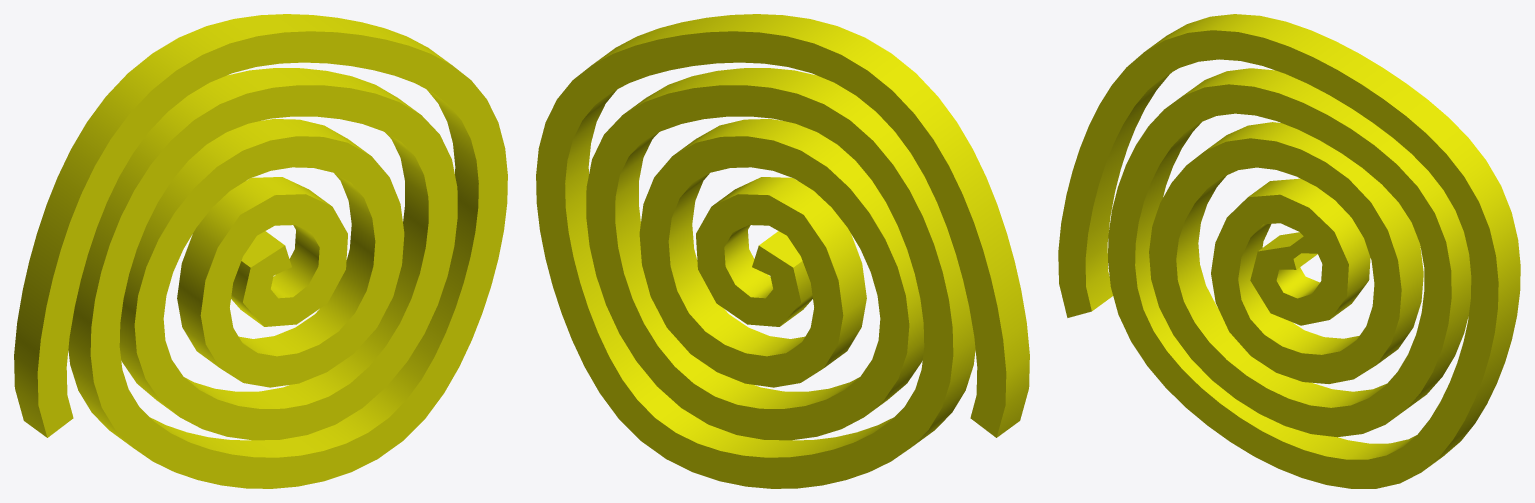
The model's file is SunBody.fbx.
3 views of the same model, side by side, from view 1: azimuth 30°, elevation 25°; view 2: azimuth 150°, elevation 25°; view 3: azimuth 330°, elevation 25° (orthographic). The views are drawn at different scales.
Parts seen in each view (by area): view 1: SunBody; view 2: SunBody; view 3: SunBody.
Boxes of the visible parts, <box> form: SunBody: <box>14,14,507,488</box>; SunBody: <box>536,14,1029,488</box>; SunBody: <box>1058,14,1520,488</box>.
Size of the model in its own units: 32.3 by 30.28 by 2.81.
